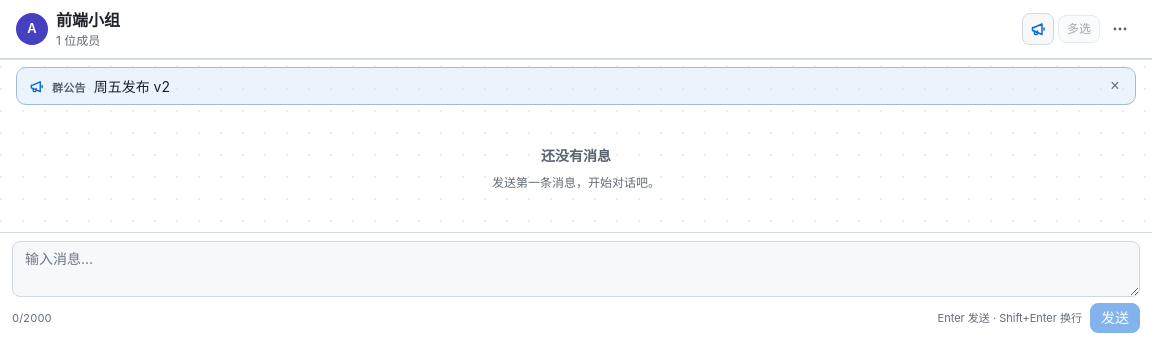
Test: ChatThread › 群公告横幅展示内容，关闭后写入本地记忆
Expected: the text "周五发布 v2" is shown, [94,76,170,96]
What coordinates should you click on to do the following:
click the button named "不再显示这条群公告"
I would click on:
 (1115, 86)
Its box is [1103,74,1127,98].
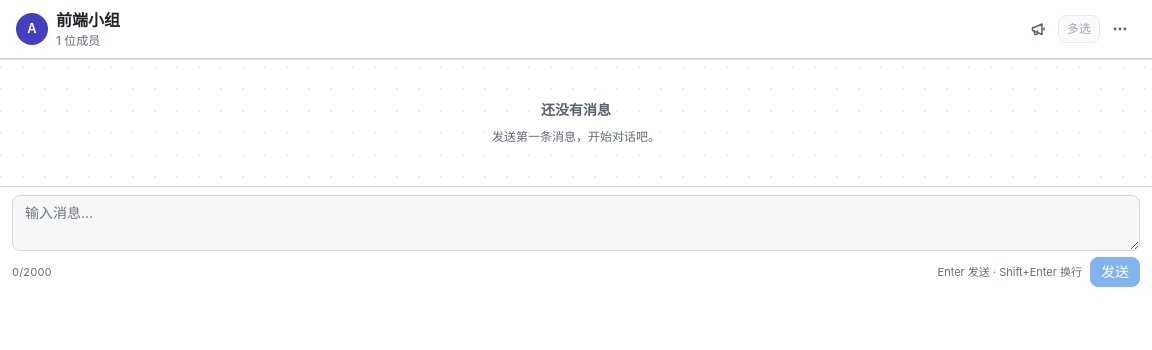
Result: the button "周五发布 v2" is gone
